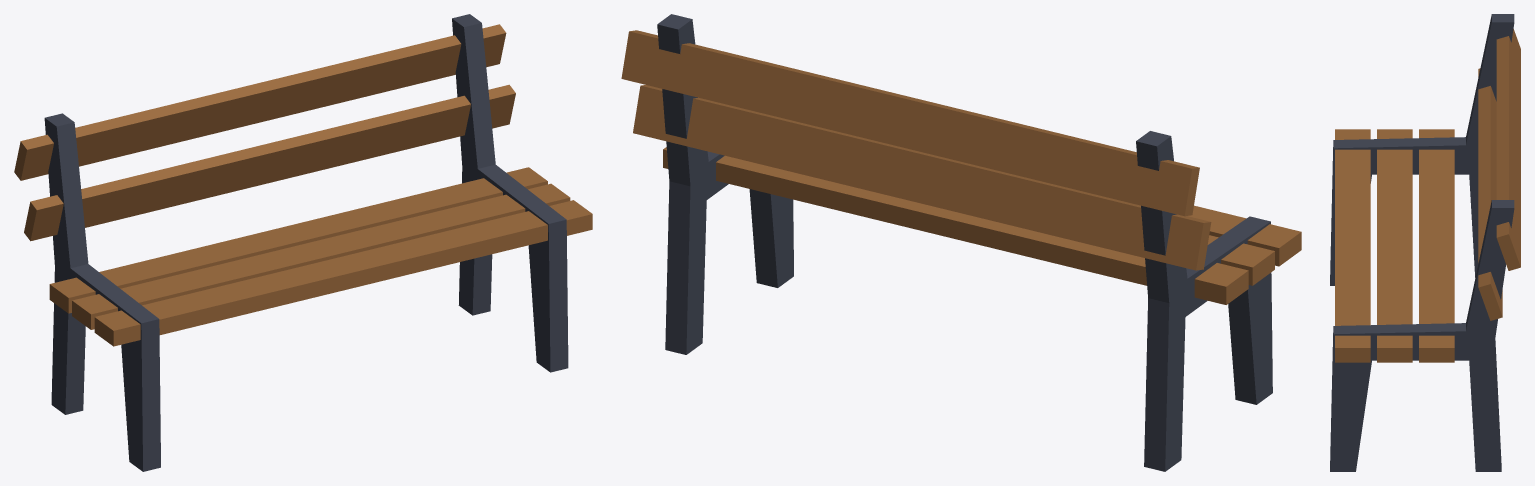
Rendered from bench-park.glb.
3 views of the same model, side by side, from view 1: azimuth 30°, elevation 25°; view 2: azimuth 150°, elevation 25°; view 3: azimuth 270°, elevation 25° (orthographic). The views are drawn at different scales.
Visible parts, largest first — view 1: Bench slats, Bench frames; view 2: Bench slats, Bench frames; view 3: Bench slats, Bench frames.
Boxes of the visible parts, <box> form: Bench slats: <box>14,24,592,346</box>; Bench frames: <box>44,14,568,471</box>; Bench slats: <box>621,30,1301,304</box>; Bench frames: <box>657,14,1272,471</box>; Bench slats: <box>1335,29,1520,362</box>; Bench frames: <box>1330,14,1514,471</box>.
Size of the model in its own units: 1.6 by 0.9 by 0.5899.
